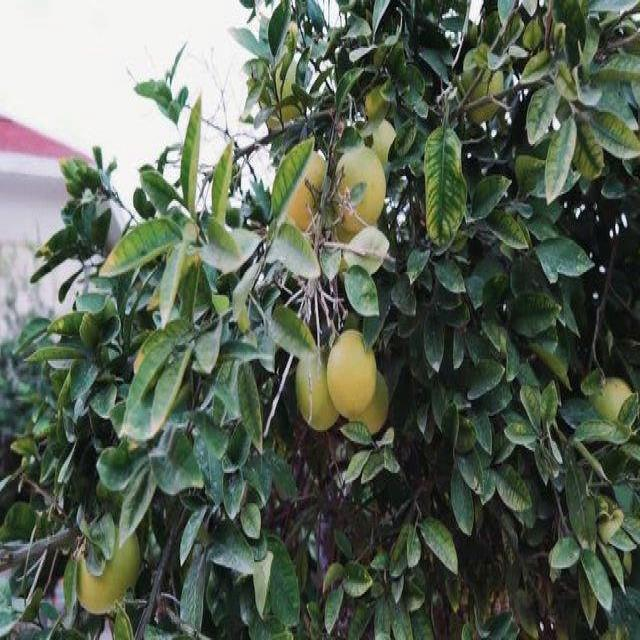Jeruk Belum Matang: (74, 528, 142, 614), (337, 149, 387, 231), (462, 46, 505, 121), (297, 354, 338, 428), (352, 377, 389, 432), (360, 119, 395, 176)
Jeruk Sudah Matang: (329, 331, 378, 422), (278, 148, 324, 235)
